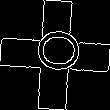O_W: (29, 32, 81, 78)
